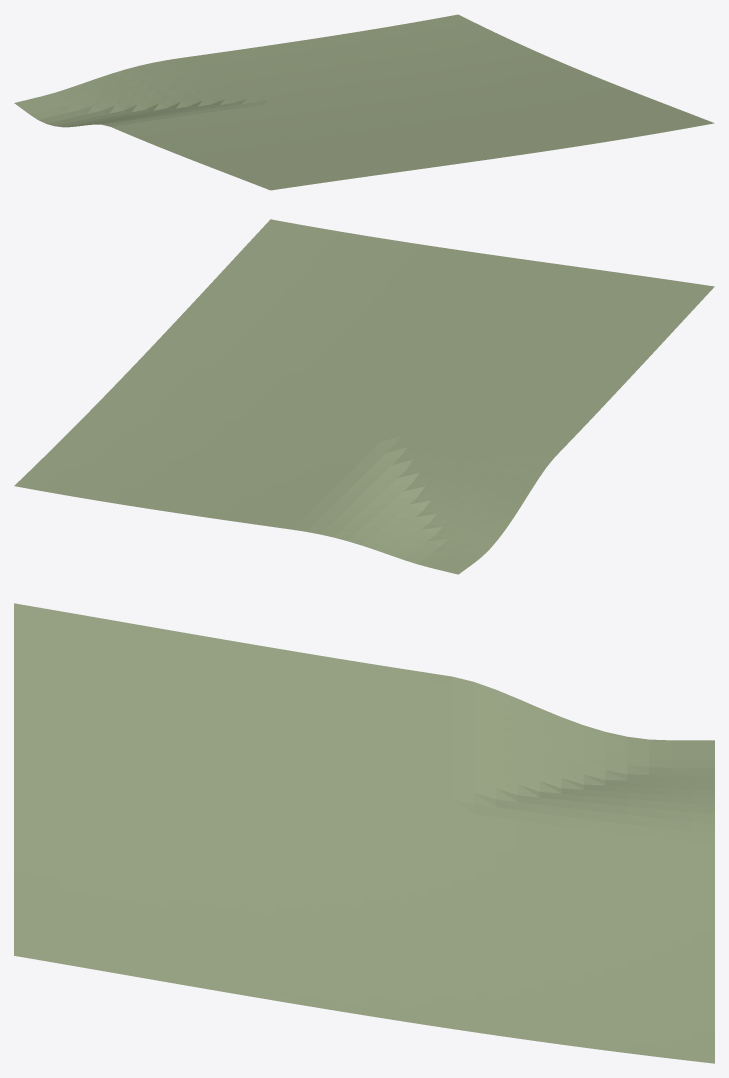
File: valley-3-13.glb
The picture shows the model from 3 angles, top to bottom: view 1: azimuth 30°, elevation 25°; view 2: azimuth 150°, elevation 25°; view 3: azimuth 270°, elevation 25°; orthographic projection. The views are drawn at different scales.
Visible parts, largest first — view 1: valley-3-13; view 2: valley-3-13; view 3: valley-3-13.
Part boxes in pixels (x1,y1,x2,y2): valley-3-13: [14, 14, 714, 190]; valley-3-13: [14, 219, 714, 574]; valley-3-13: [14, 603, 714, 1063].
Size of the model in its own units: 256 by 66.16 by 256.
